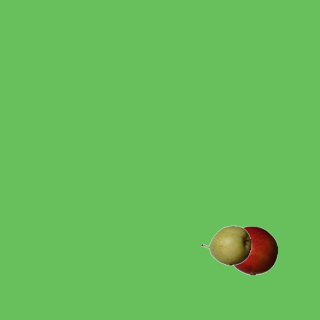Apple Braeburn: (227, 225, 277, 275)
Pear: (200, 220, 250, 270)
